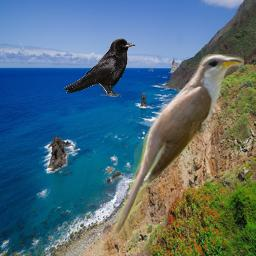Crow: (63, 38, 136, 97)
Cuckoo: (110, 54, 244, 239)
